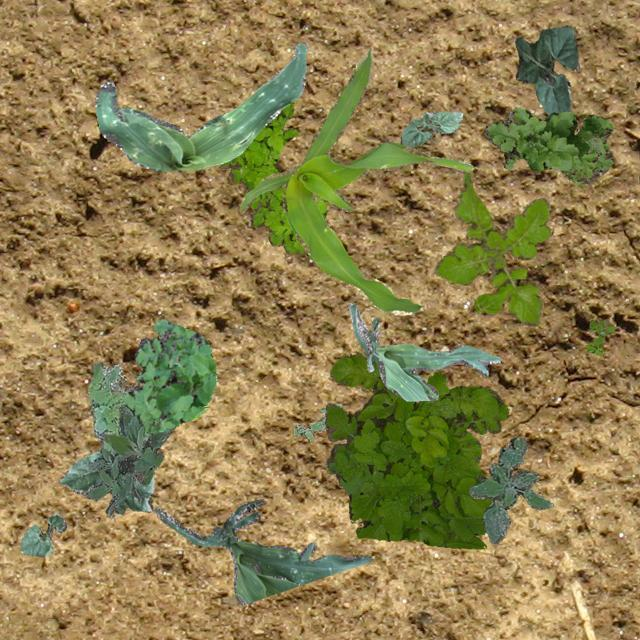crop: (238, 46, 472, 314), (94, 41, 306, 170), (154, 498, 372, 604), (346, 302, 501, 399), (59, 448, 152, 512), (514, 24, 578, 114), (399, 110, 462, 146), (20, 512, 66, 556)
weed: (324, 352, 508, 548), (432, 170, 550, 324), (218, 100, 326, 256), (122, 318, 215, 432), (482, 106, 612, 184), (84, 404, 174, 516), (468, 436, 550, 544), (88, 362, 158, 454), (292, 408, 326, 440), (584, 317, 614, 353)
